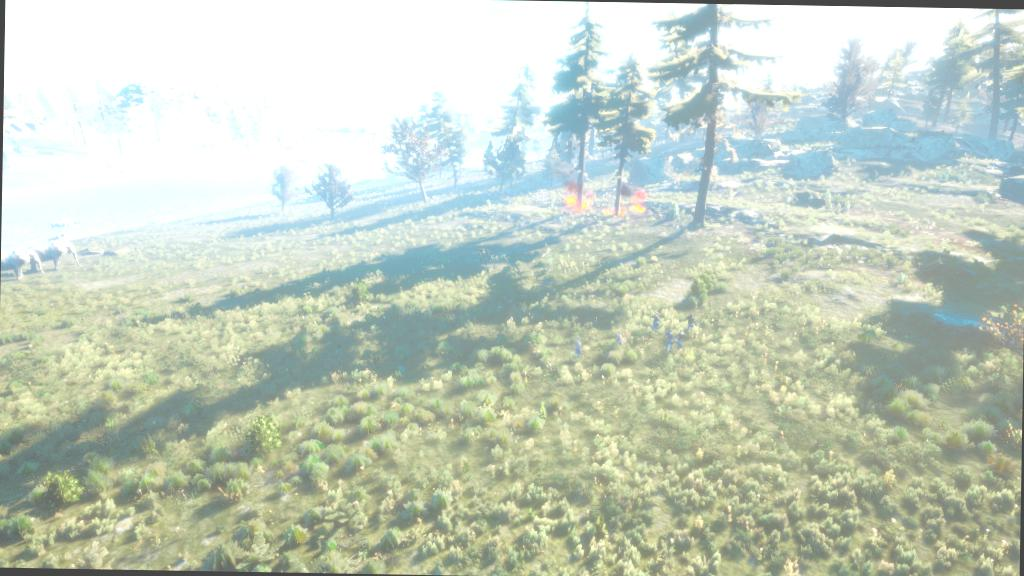Fire: (600, 188, 654, 220), (559, 180, 597, 216)
elephant: (22, 240, 85, 274), (0, 244, 48, 284)
human: (643, 308, 662, 338), (680, 310, 698, 337), (568, 333, 585, 361), (610, 325, 626, 353), (662, 326, 676, 358), (673, 326, 687, 350)
rhinoceros: (41, 216, 76, 232), (59, 215, 90, 228)
